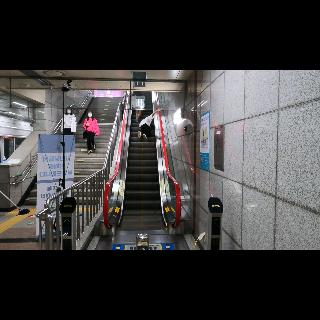anomaly: (138, 106, 164, 140)
normal: (83, 110, 101, 154), (126, 88, 146, 120), (60, 106, 76, 140)
